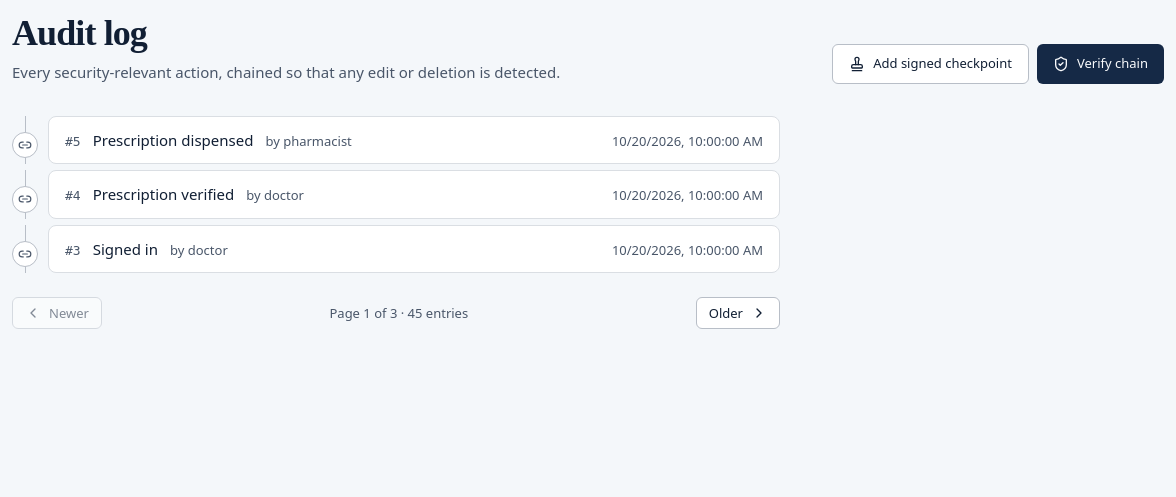
Scenario: Audit page › reports an intact chain
Click the button "Verify chain" at (1100, 64), box top-left (1037, 44), bottom-right (1164, 84)
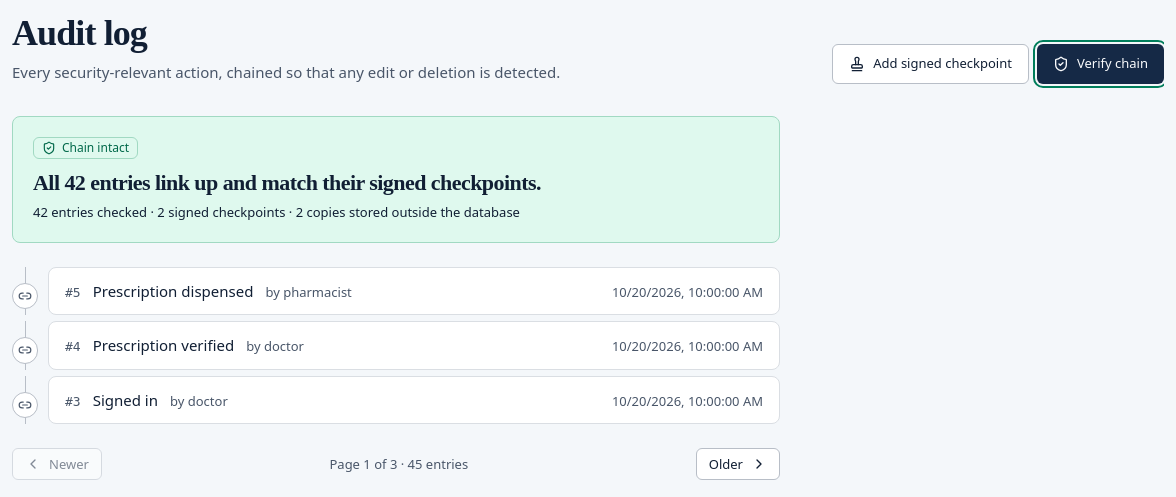
Now the text "Chain intact" is shown, box top-left (33, 137), bottom-right (138, 159)
Now the heading "All 42 entries link up and match their signed checkpoints." is shown, box top-left (33, 170), bottom-right (541, 195)
